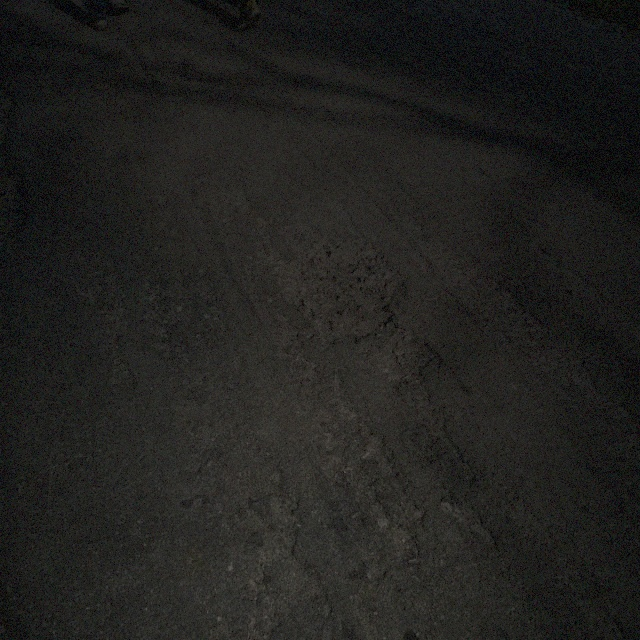pothole: (268, 239, 404, 341), (378, 332, 441, 382)
